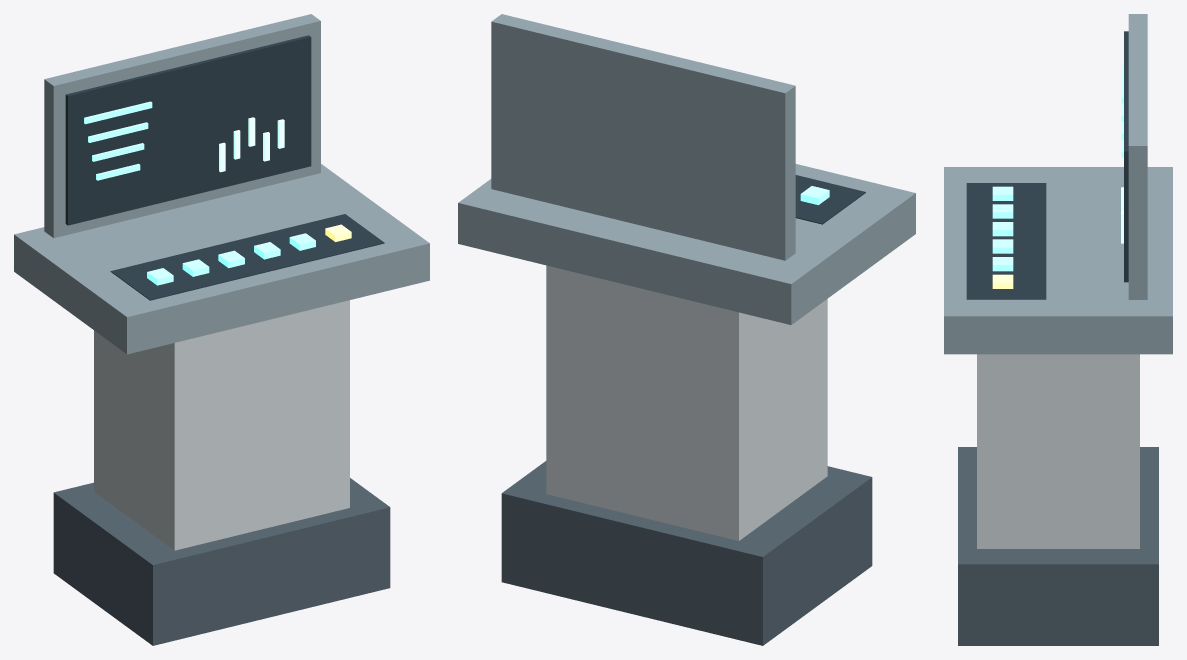
Rendered from medical_console.glb.
The picture shows the model from 3 angles, left to right: view 1: azimuth 30°, elevation 25°; view 2: azimuth 150°, elevation 25°; view 3: azimuth 270°, elevation 25°; orthographic projection. The views are drawn at different scales.
Parts seen in each view (by area): view 1: ivory_1, steel_2, dark_0, black_11, steel_10, black_3; view 2: ivory_1, steel_10, dark_0, steel_2, black_3; view 3: ivory_1, steel_2, dark_0, black_3, steel_10, black_11.
Part boxes in pixels (x1,y1,x2,y2): ivory_1: [94, 300, 349, 550]; steel_2: [14, 164, 429, 354]; dark_0: [53, 478, 390, 645]; black_11: [65, 35, 311, 225]; steel_10: [44, 14, 320, 238]; black_3: [110, 214, 384, 300]; ivory_1: [546, 265, 827, 540]; steel_10: [491, 14, 795, 260]; dark_0: [501, 461, 872, 645]; steel_2: [458, 164, 915, 324]; black_3: [795, 175, 865, 224]; ivory_1: [977, 354, 1139, 548]; steel_2: [944, 167, 1172, 354]; dark_0: [958, 447, 1158, 645]; black_3: [966, 183, 1046, 299]; steel_10: [1128, 14, 1147, 299]; black_11: [1124, 31, 1128, 282].
Bounding box in the file's own units: 1.02 × 1.62 × 0.66.
